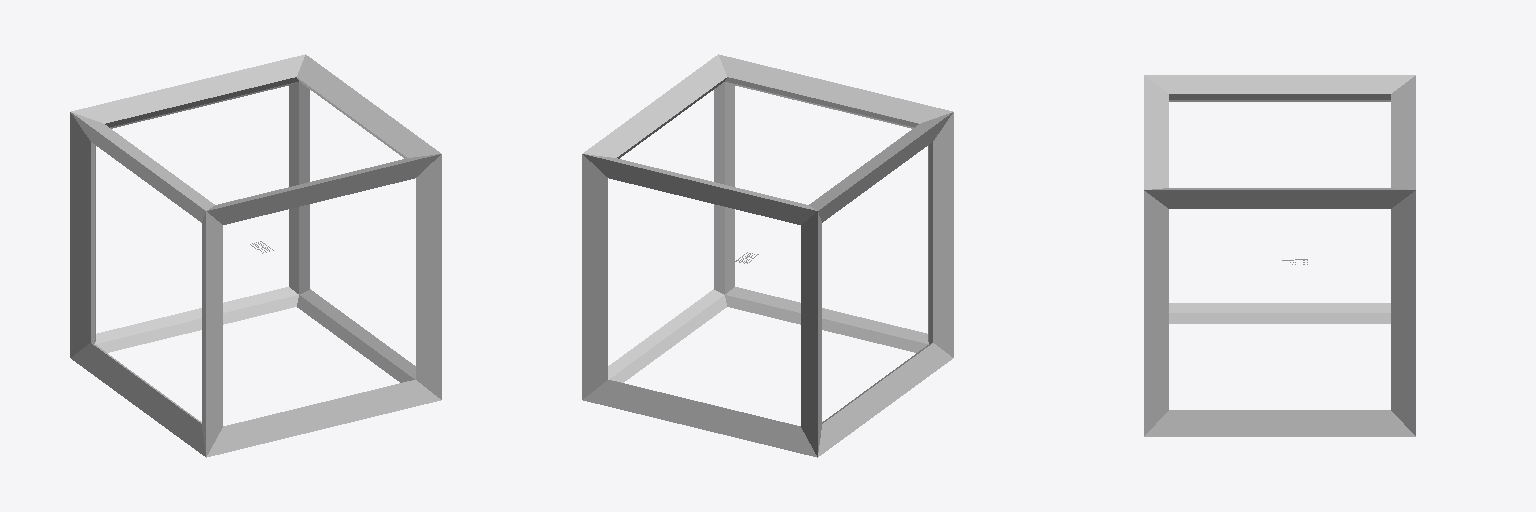
The model's file is cubo.obj.
3 views of the same model, side by side, from view 1: azimuth 30°, elevation 25°; view 2: azimuth 150°, elevation 25°; view 3: azimuth 270°, elevation 25° (orthographic).
Visible parts, largest first — view 1: Cube_Cube.001; view 2: Cube_Cube.001; view 3: Cube_Cube.001.
Part boxes in pixels (left/top/right/bottom): Cube_Cube.001: left=70, top=54, right=441, bottom=457; Cube_Cube.001: left=582, top=54, right=953, bottom=457; Cube_Cube.001: left=1144, top=75, right=1415, bottom=436.
Bounding box in the file's own units: 1 × 1 × 1.